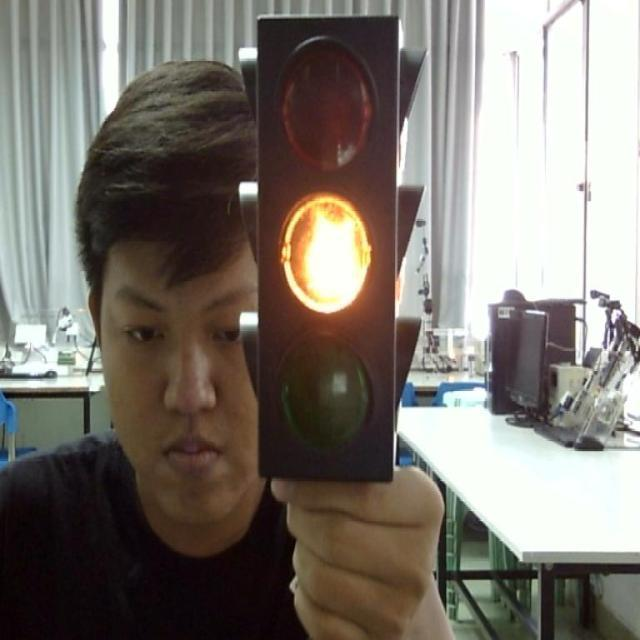yellow_light: (255, 14, 397, 479)
